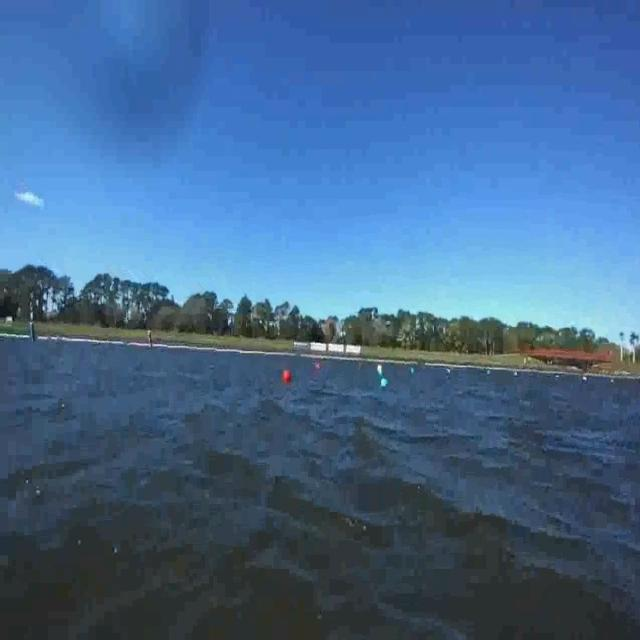green-buoy: (378, 377, 390, 395)
red-buoy: (282, 368, 292, 383)
